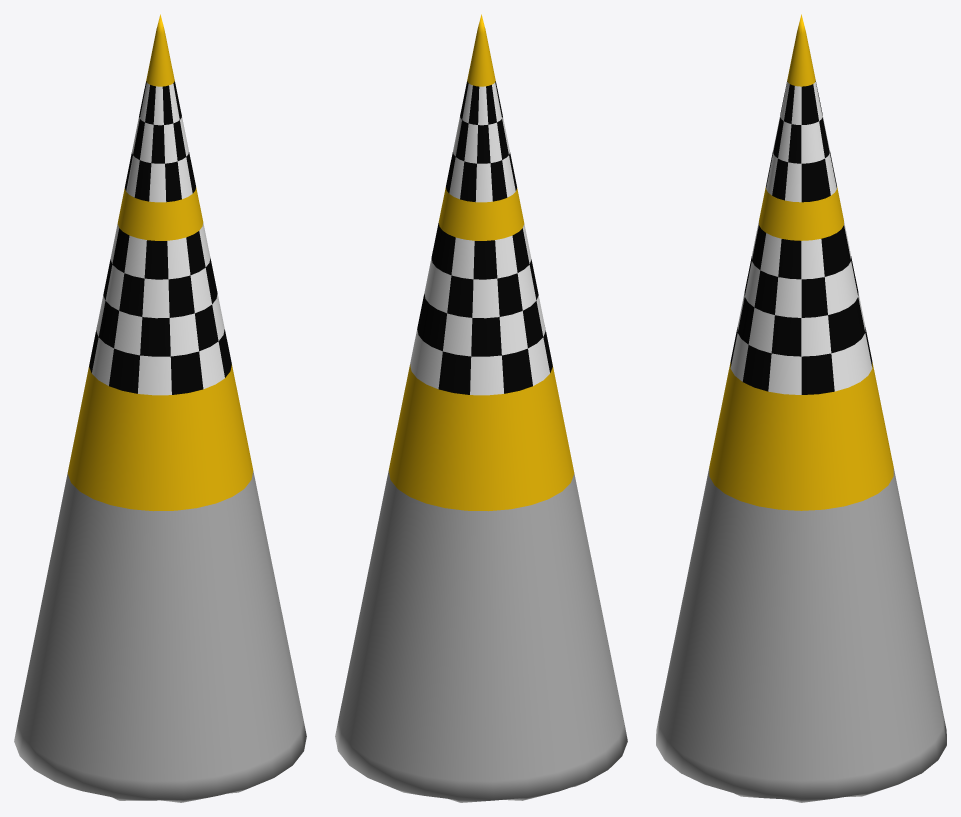
The model's file is coneArrive.fbx.
The picture shows the model from 3 angles, left to right: view 1: azimuth 30°, elevation 25°; view 2: azimuth 150°, elevation 25°; view 3: azimuth 270°, elevation 25°; orthographic projection.
Parts seen in each view (by area): view 1: pCone3; view 2: pCone3; view 3: pCone3.
Part boxes in pixels (x1,y1,x2,y2): pCone3: [14, 14, 306, 802]; pCone3: [335, 14, 627, 802]; pCone3: [656, 14, 946, 802].
Size of the model in its own units: 4.49 by 12.54 by 4.45.
